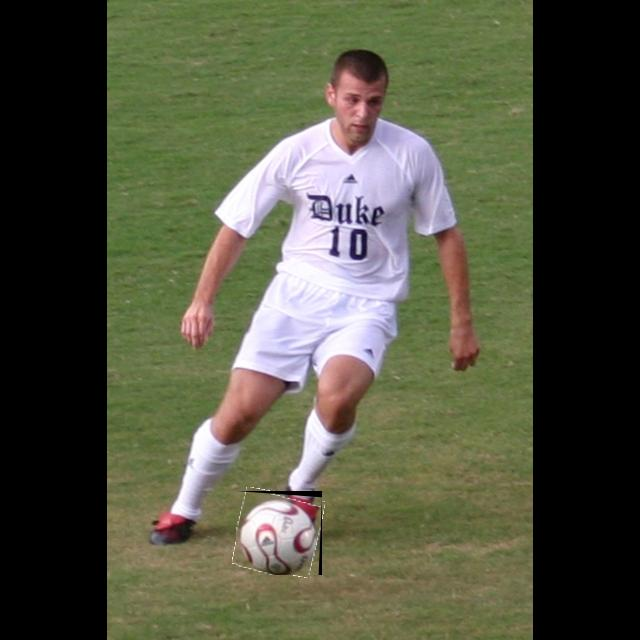Football: (236, 491, 322, 575)
